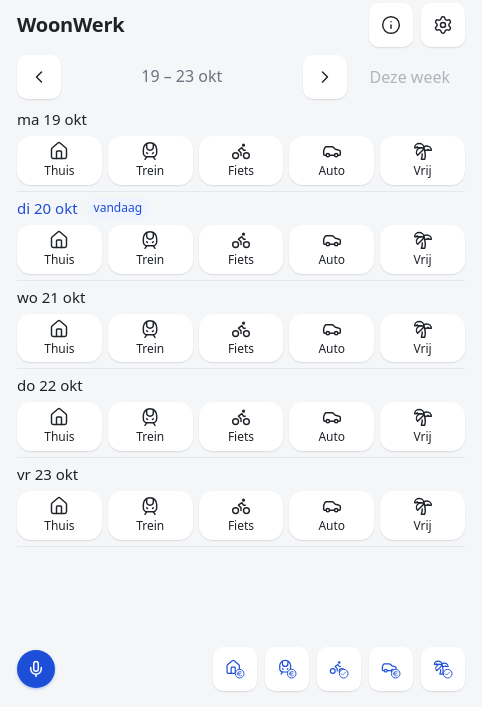
Test: AC38: periode van de overzichten › loopt tot 3 maanden na de vanaf-datum als dat vóór vandaag ligt
Click the button named "Overzicht kilometervergoeding".
click(391, 669)  # box [369, 647, 413, 691]
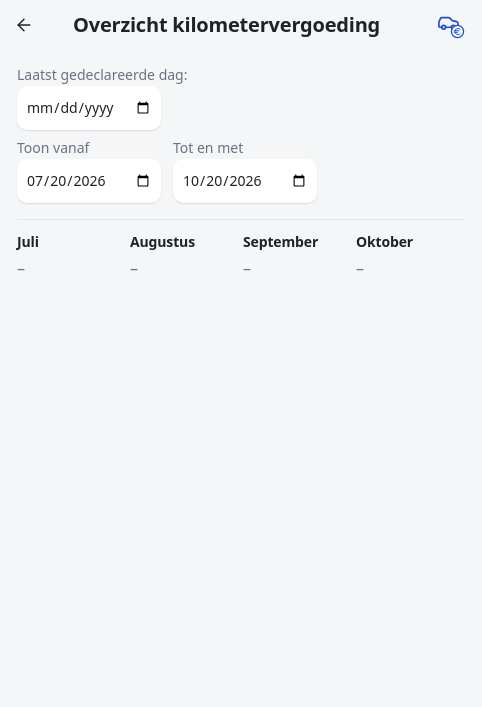
Type "2025-12-31" into the date field labelled "Laatst gedeclareerde dag:".
click(89, 108); type("2025-12-31")  # box [17, 86, 161, 130]
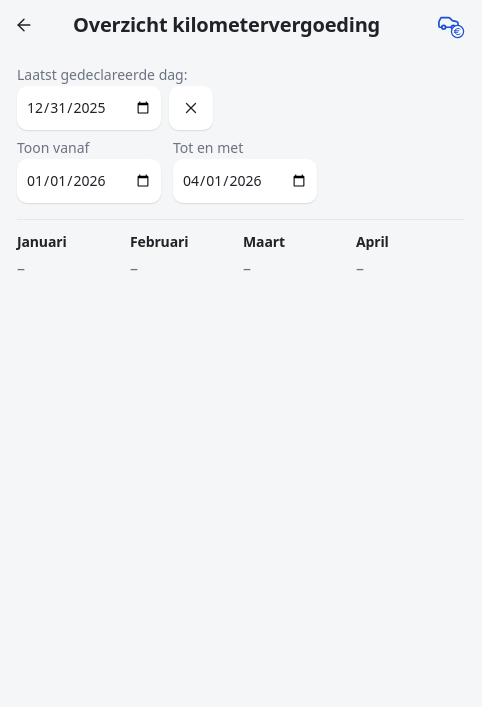
Expected: the date field labelled "Toon vanaf" holds "2026-01-01", [17, 159, 161, 203]
Expected: the date field labelled "Tot en met" holds "2026-04-01", [173, 159, 317, 203]
